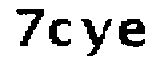7: (10, 3, 44, 50)
c: (47, 17, 76, 50)
e: (116, 17, 150, 51)
y: (80, 15, 114, 60)
